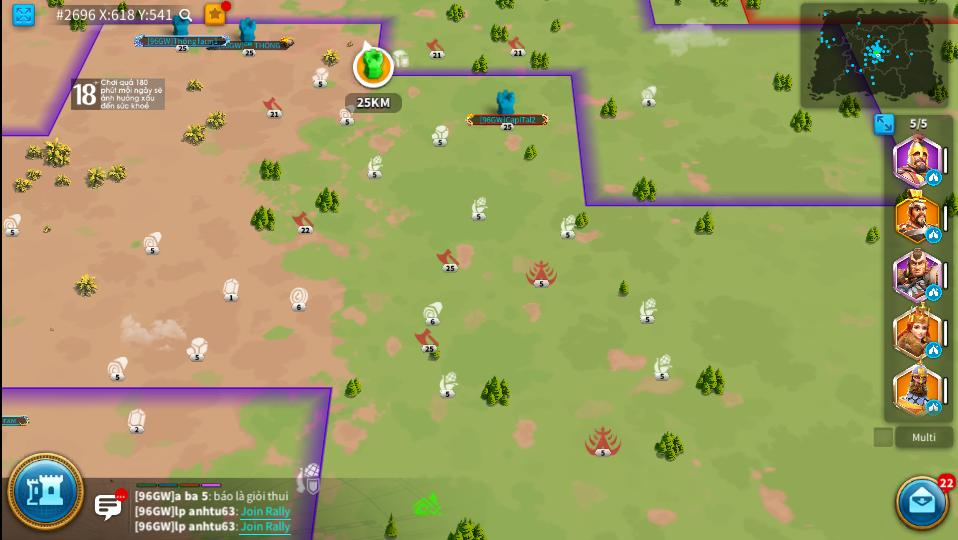gem-z-out: (128, 408, 146, 434), (222, 278, 240, 301)
march_idle: (925, 228, 942, 242), (926, 170, 940, 185), (927, 400, 941, 415), (926, 285, 940, 299), (928, 343, 940, 357)
